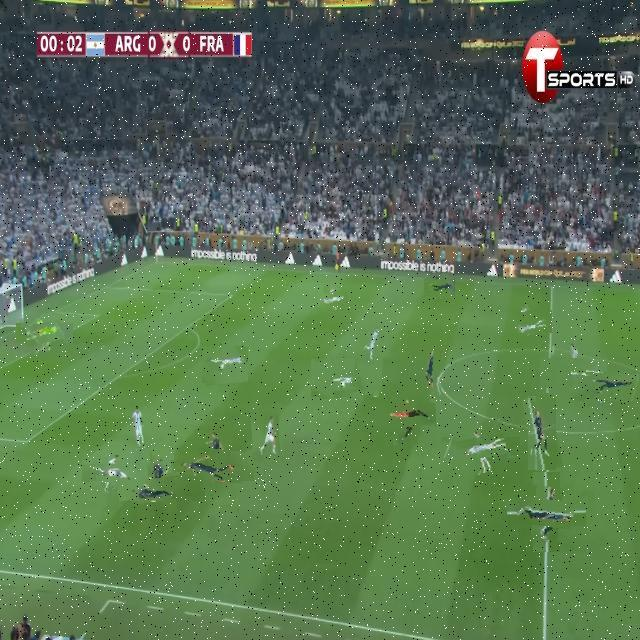ball: (168, 474, 182, 486)
goalkeeper: (23, 312, 66, 354)
player: (134, 460, 192, 518), (188, 436, 245, 493), (317, 351, 373, 407), (519, 485, 575, 541), (454, 421, 508, 475), (547, 348, 599, 401), (526, 395, 560, 471), (353, 319, 386, 392), (584, 365, 631, 412), (203, 344, 247, 387), (414, 347, 446, 399), (91, 454, 131, 494), (252, 408, 280, 465), (515, 304, 550, 339), (127, 401, 151, 449), (426, 274, 454, 302), (320, 286, 345, 311)
referee: (383, 392, 428, 437)
